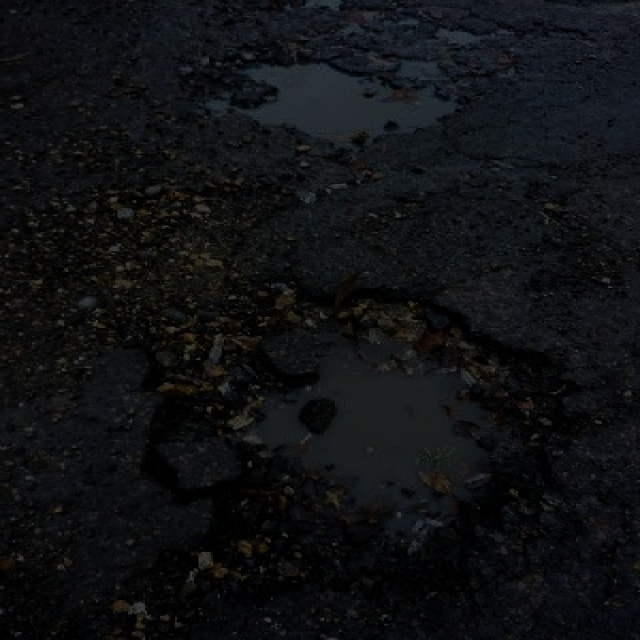Pothole: (117, 289, 589, 616), (181, 44, 474, 146)
